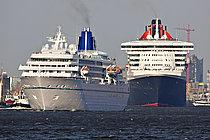Ship: (13, 24, 134, 112), (122, 15, 195, 113)
